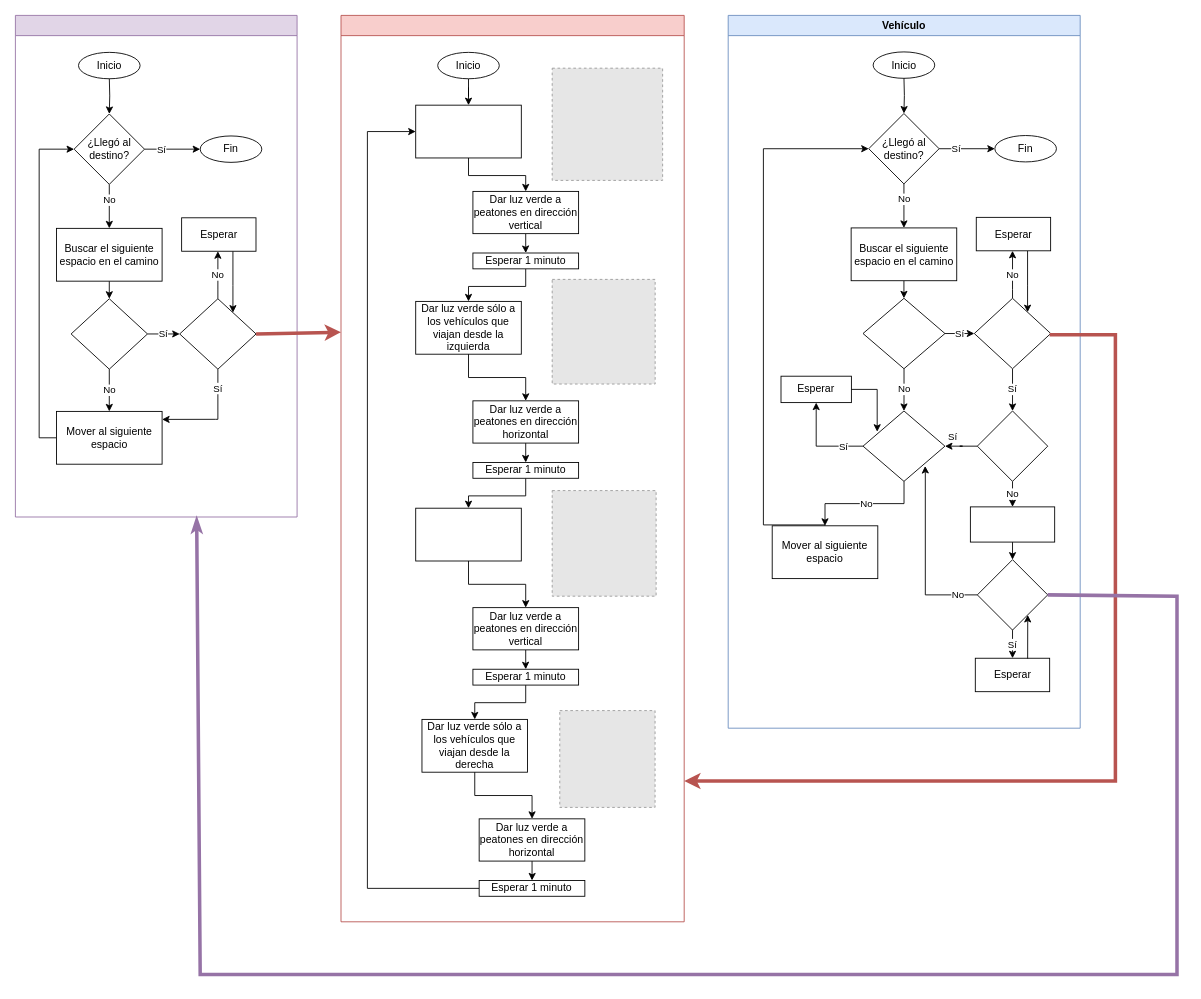
The diagram is 1201 pixels wide and 999 high, and some of its shapes have lost their labels. Grey dashed boxes stand in for pictures. Here are the shapes that lost their labels. From the top down, the box of each, then its label:
(415, 104, 521, 158): Dar luz verde sólo a los vehículos que viajan desde abajo
(15, 15, 297, 517): Peaton
(70, 298, 147, 369): ¿El siguiente espacio es un cruce?
(179, 298, 256, 369): ¿Tiene luz verde la dirección?
(862, 297, 945, 369): ¿El siguiente espacio es una intersección?
(973, 297, 1051, 369): ¿Tiene luz verde el carril?
(862, 410, 945, 481): ¿Esta ocupado el espacio siguiente?
(976, 410, 1048, 481): ¿Esta yendo recto?
(340, 15, 684, 922): Semáforo
(415, 507, 521, 561): Dar luz verde sólo a los vehículos que viajan desde arriba
(969, 506, 1055, 542): Entrar a la intersección
(976, 559, 1048, 630): ¿Hay un peatón cruzando?
